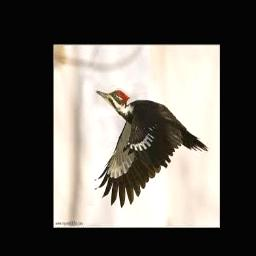Woodpecker: (94, 90, 208, 208)
